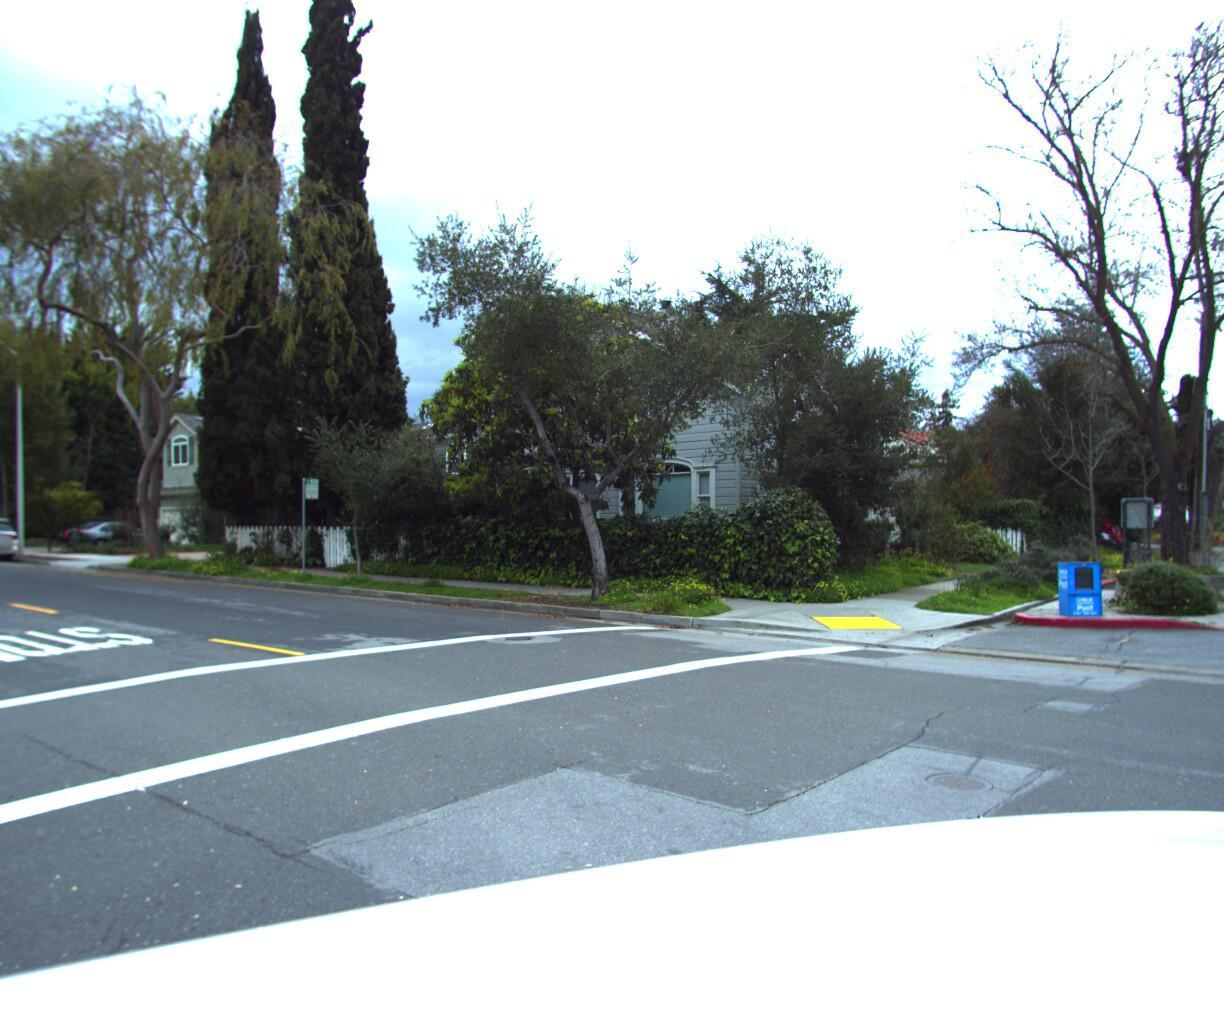car: (1001, 516, 1116, 554), (1013, 516, 1125, 552), (62, 523, 165, 553), (51, 524, 152, 553), (0, 513, 22, 566), (1222, 519, 1224, 551)
